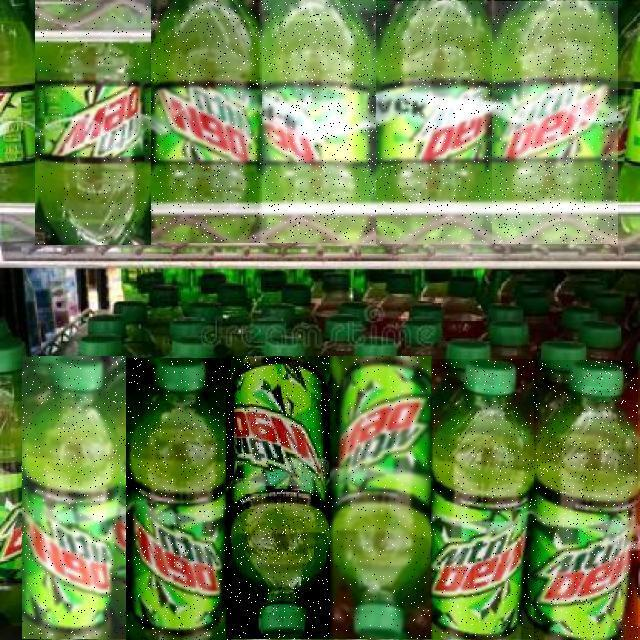Drinks: (493, 1, 619, 244), (226, 356, 332, 639), (431, 359, 537, 639), (126, 358, 231, 640), (22, 356, 126, 639), (534, 360, 638, 640), (330, 356, 432, 639), (35, 0, 151, 245), (376, 1, 492, 244), (261, 0, 377, 243), (150, 0, 262, 243)
